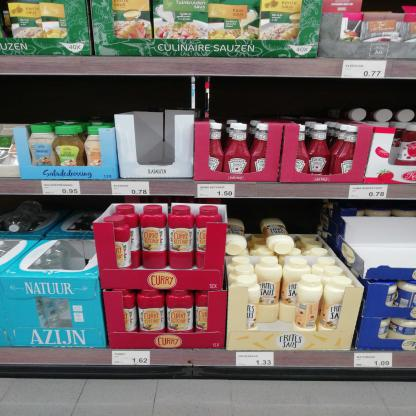prtg: (342, 61, 388, 79), (349, 186, 389, 200), (112, 182, 151, 196), (113, 352, 151, 366), (237, 353, 275, 367), (355, 354, 393, 368), (43, 182, 81, 195), (199, 186, 236, 199)
